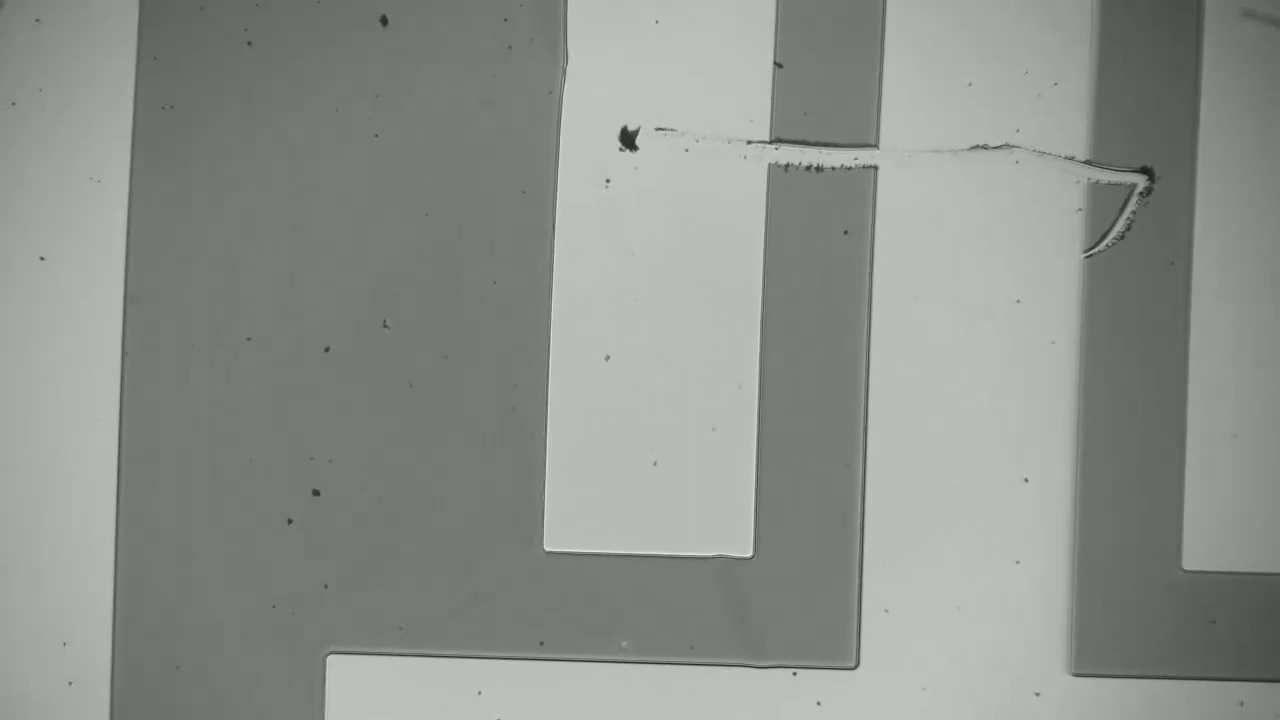Short_circuit: (711, 120, 910, 197), (1055, 127, 1238, 206)
